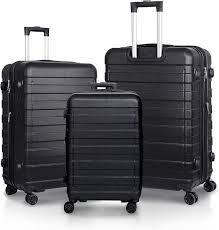suitcase: (104, 1, 217, 207), (1, 23, 99, 202), (57, 79, 143, 212)
